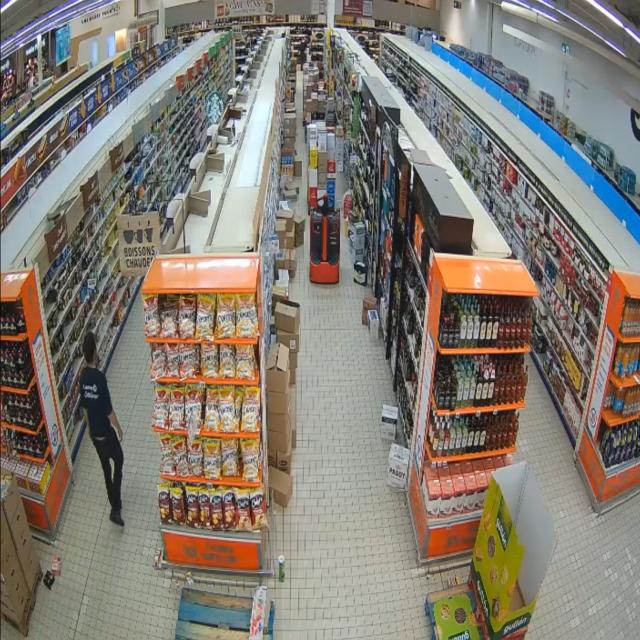hands: (116, 424, 124, 443)
person: (80, 332, 123, 526)
